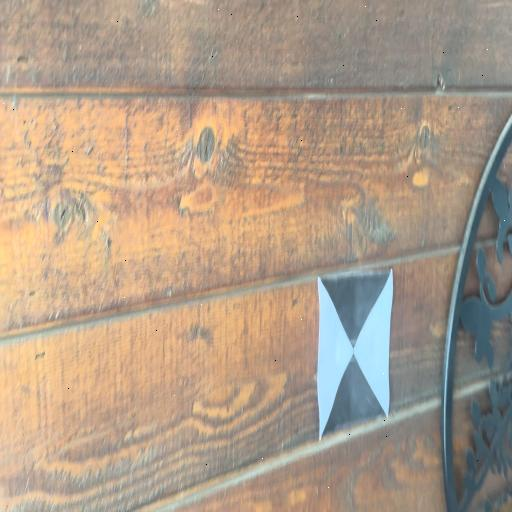target: (318, 270, 393, 437)
